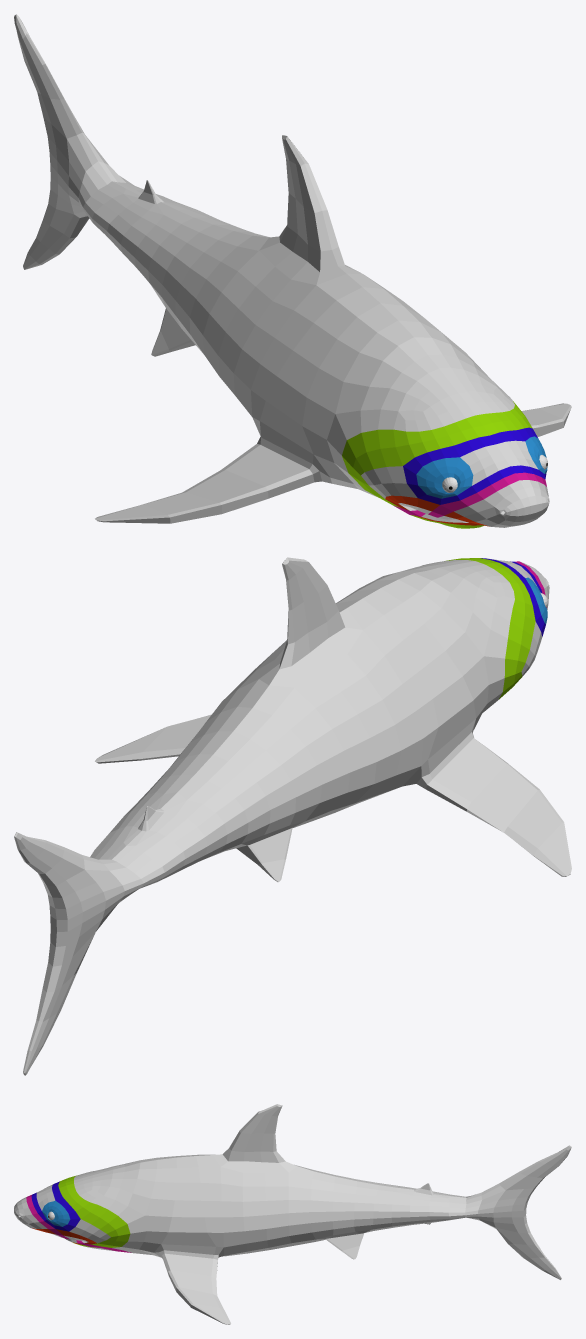
File: shark.fbx
The picture shows the model from 3 angles, top to bottom: view 1: azimuth 30°, elevation 25°; view 2: azimuth 150°, elevation 25°; view 3: azimuth 270°, elevation 25°; orthographic projection. The views are drawn at different scales.
Parts seen in each view (by area): view 1: shark; view 2: shark; view 3: shark.
Part boxes in pixels (bbox=[...]): shark: bbox=[14, 14, 571, 528]; shark: bbox=[14, 557, 571, 1075]; shark: bbox=[14, 1104, 571, 1324].
Bounding box in the file's own units: 434 × 286 × 821.
